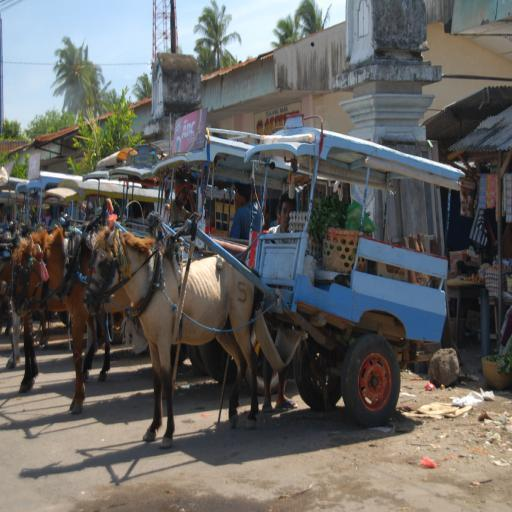horse: (82, 223, 262, 448), (10, 224, 134, 416), (0, 236, 113, 394), (0, 232, 98, 370), (2, 310, 51, 349)
